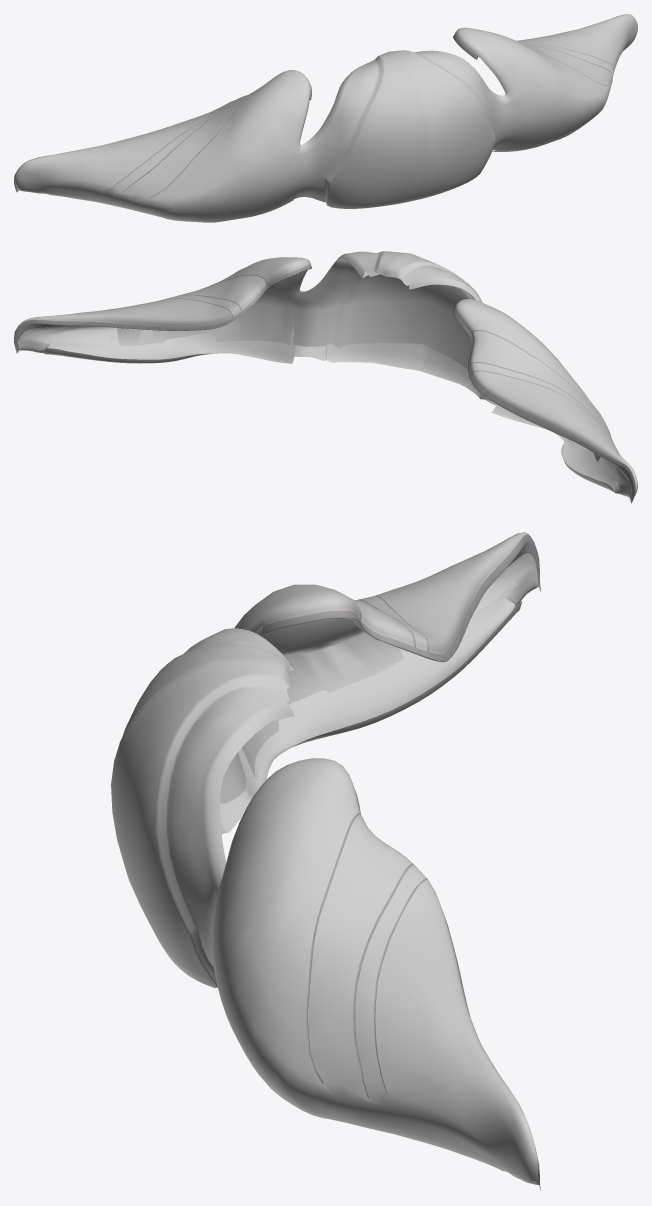
Rendered from pref_sm_beach_winter_techstadium01_lv3.fbx.
3 views of the same model, one above another, from view 1: azimuth 30°, elevation 25°; view 2: azimuth 150°, elevation 25°; view 3: azimuth 270°, elevation 25° (orthographic). The views are drawn at different scales.
Parts seen in each view (by area): view 1: sm_beach_winter_techstadium01_b_lv3, sm_beach_winter_techstadium01_c_lv3, sm_beach_winter_techstadium01_a_lv3; view 2: sm_beach_winter_techstadium01_a_lv3, sm_beach_winter_techstadium01_b_lv3, sm_beach_winter_techstadium01_c_lv3; view 3: sm_beach_winter_techstadium01_a_lv3, sm_beach_winter_techstadium01_b_lv3, sm_beach_winter_techstadium01_c_lv3.
Boxes of the visible parts, bbox=[...] form: sm_beach_winter_techstadium01_b_lv3: bbox=[294, 50, 514, 208]; sm_beach_winter_techstadium01_c_lv3: bbox=[14, 70, 311, 222]; sm_beach_winter_techstadium01_a_lv3: bbox=[453, 14, 637, 151]; sm_beach_winter_techstadium01_a_lv3: bbox=[14, 257, 311, 363]; sm_beach_winter_techstadium01_b_lv3: bbox=[293, 251, 496, 405]; sm_beach_winter_techstadium01_c_lv3: bbox=[453, 299, 637, 503]; sm_beach_winter_techstadium01_a_lv3: bbox=[212, 758, 540, 1190]; sm_beach_winter_techstadium01_b_lv3: bbox=[111, 628, 294, 988]; sm_beach_winter_techstadium01_c_lv3: bbox=[234, 532, 540, 797].
Size of the model in its own units: 157 by 31.81 by 47.01.
